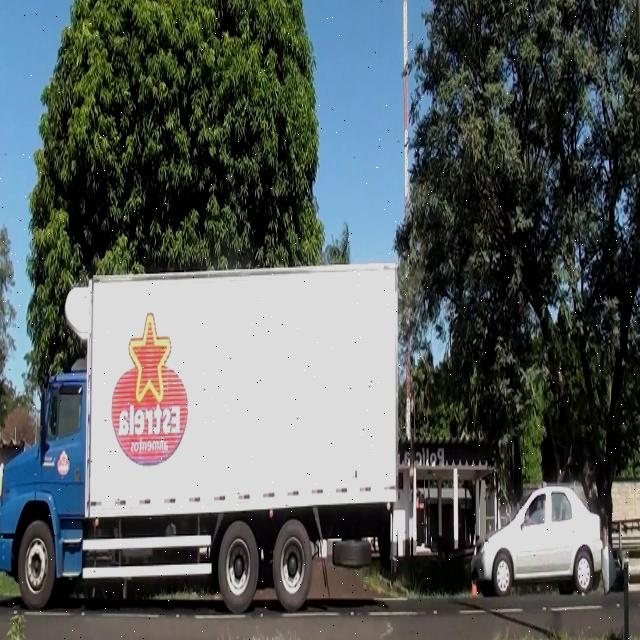-axle: (18, 515, 58, 616), (216, 520, 259, 612), (274, 520, 312, 612)
